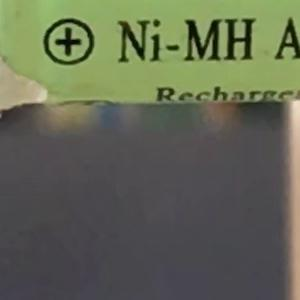keyword: (108, 9, 264, 72)
